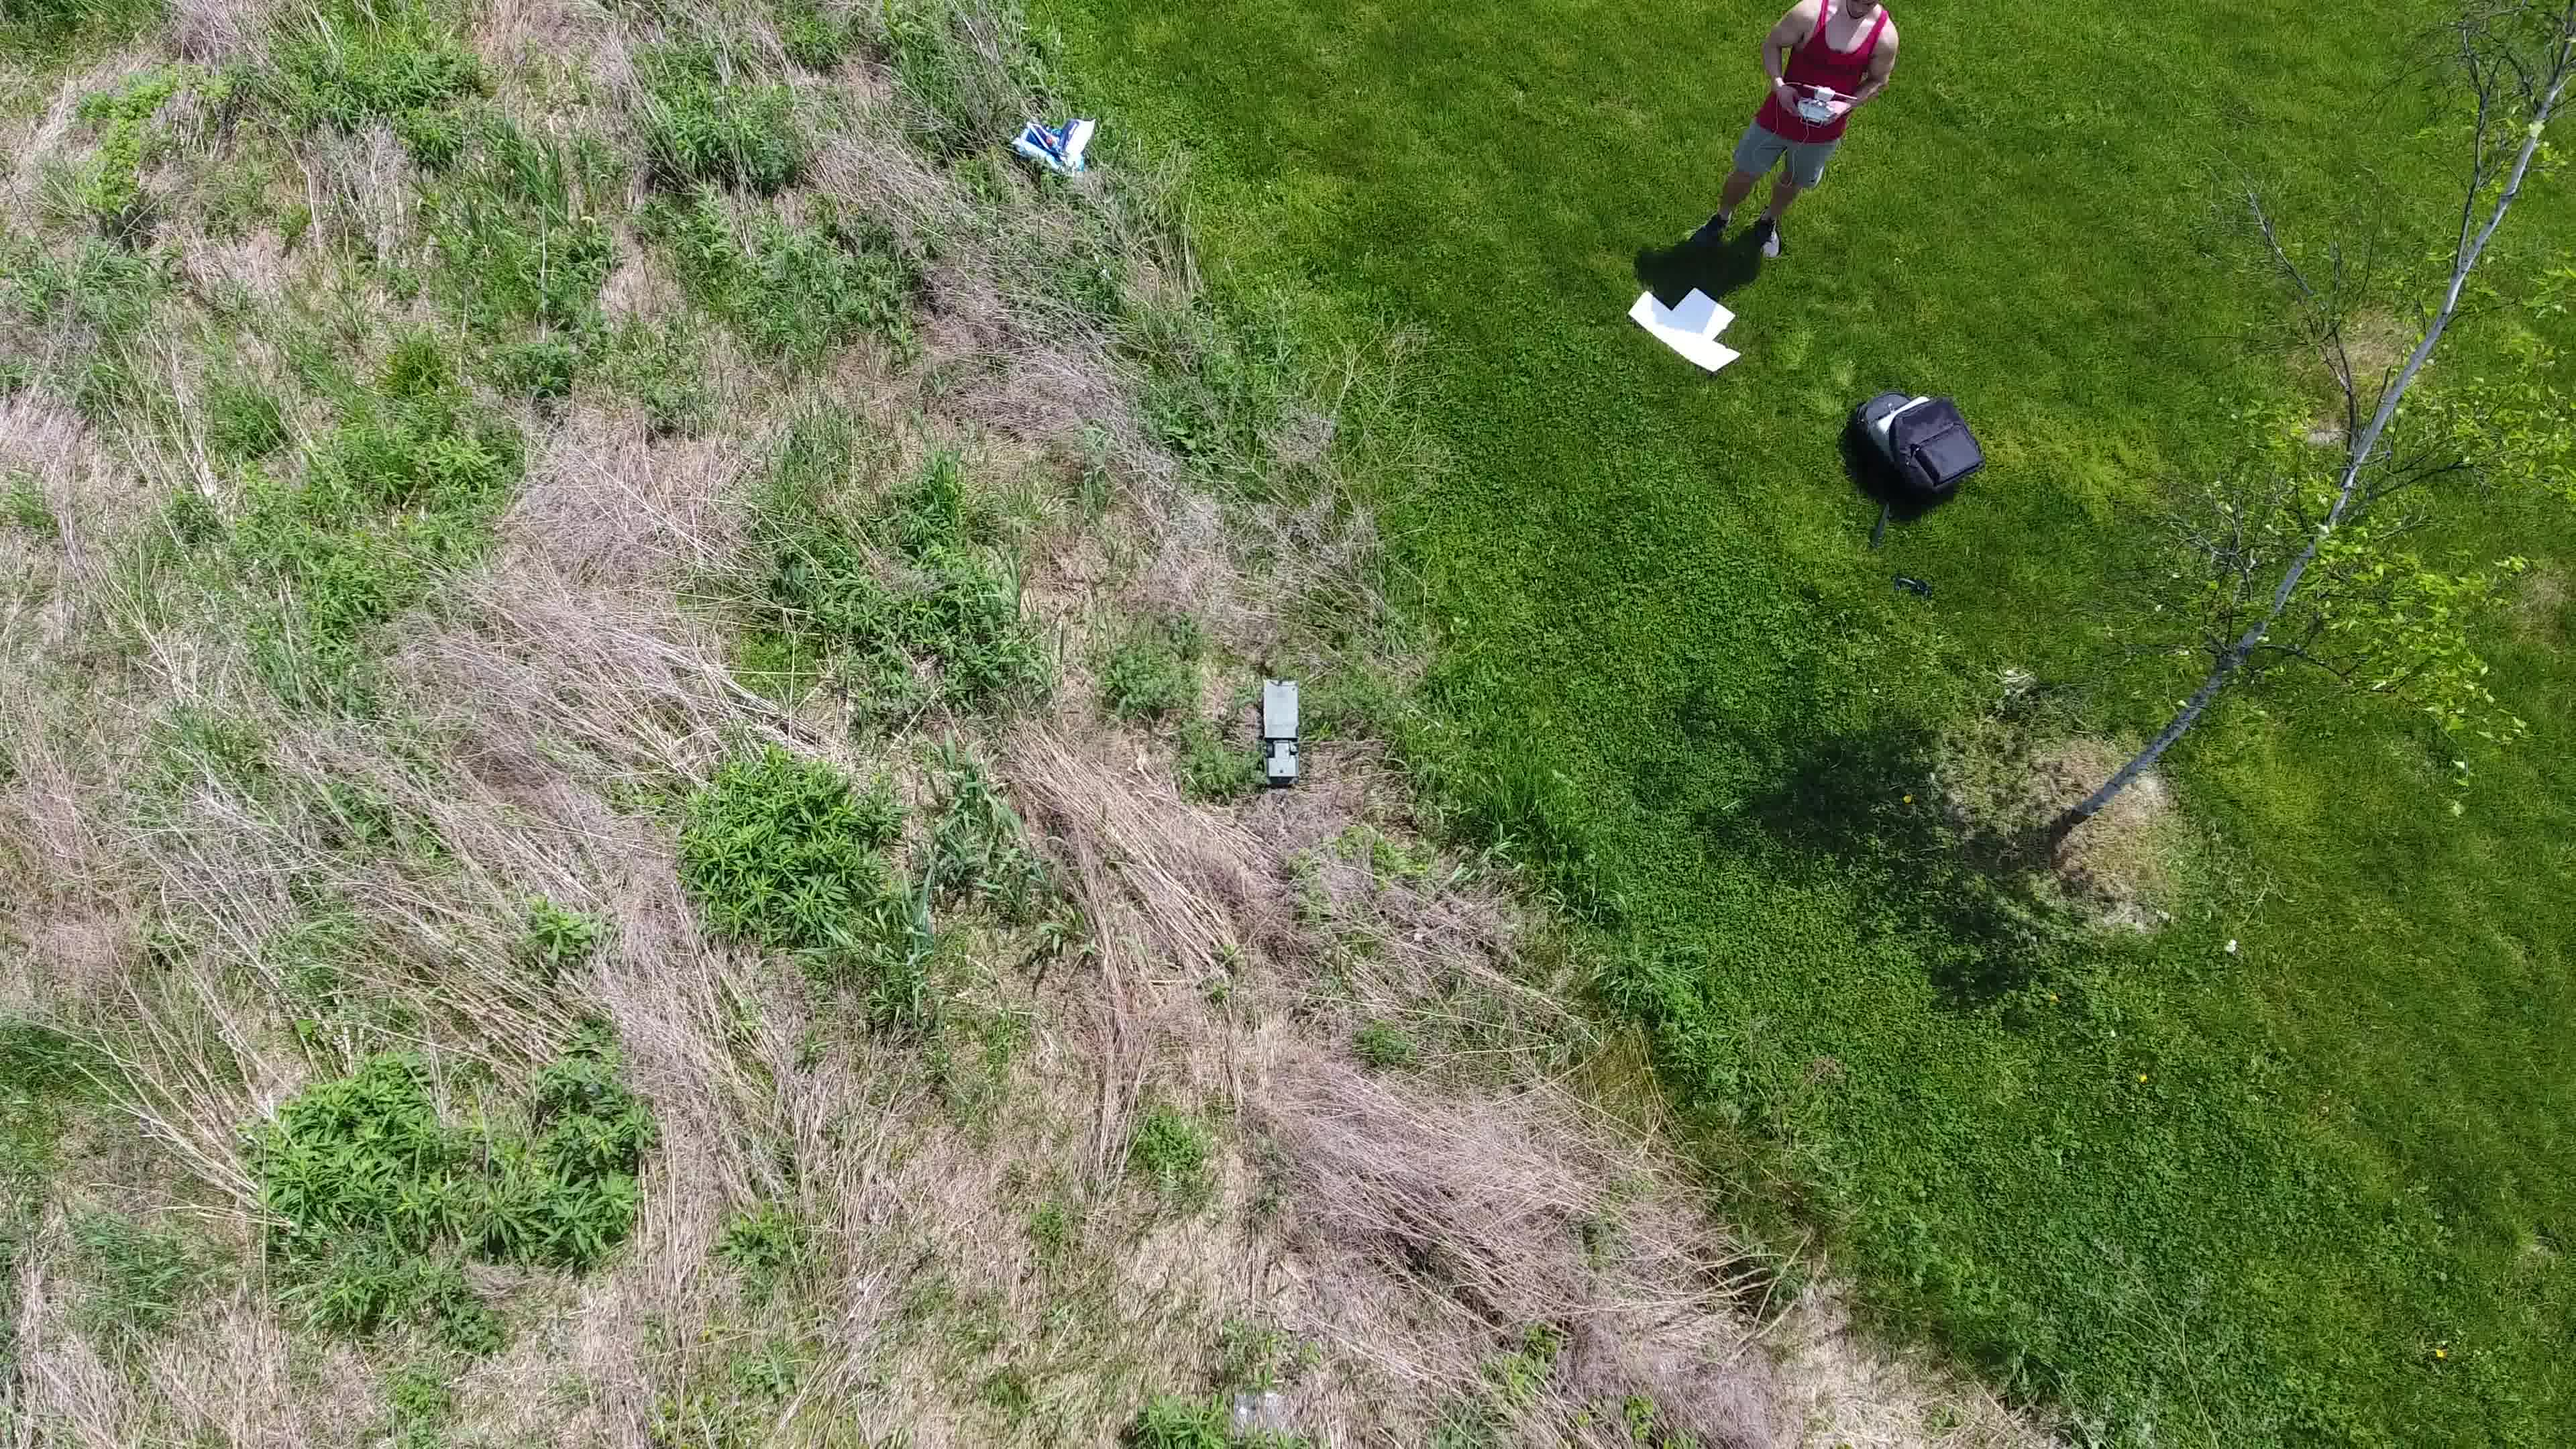transporter9: (1260, 678, 1300, 786)
